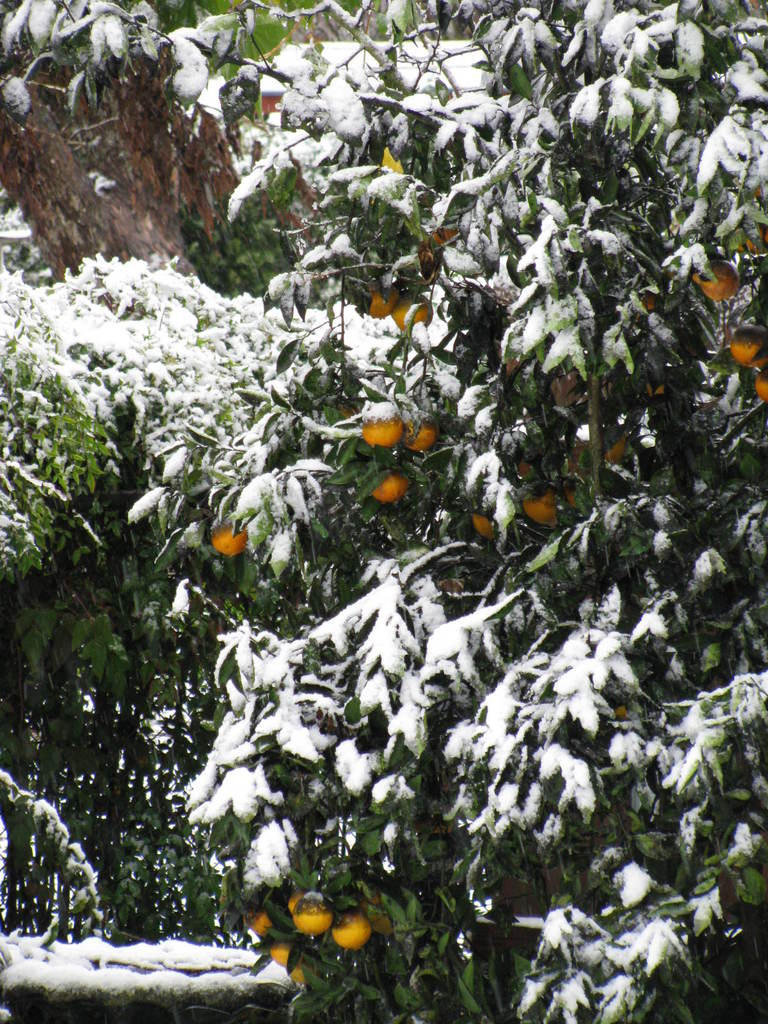Ripe: (353, 404, 401, 451), (742, 348, 767, 409), (291, 886, 323, 930), (394, 414, 431, 452), (532, 482, 564, 524), (337, 904, 365, 939), (722, 326, 758, 353), (211, 519, 237, 550), (370, 474, 401, 500), (243, 909, 265, 934), (269, 946, 291, 970)
